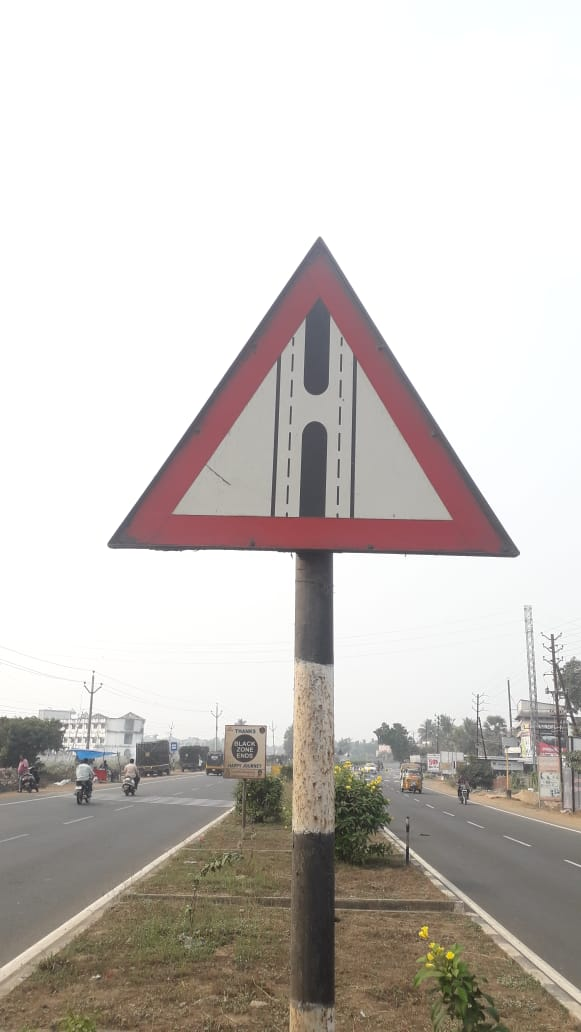highway go straight: (65, 237, 578, 572)
